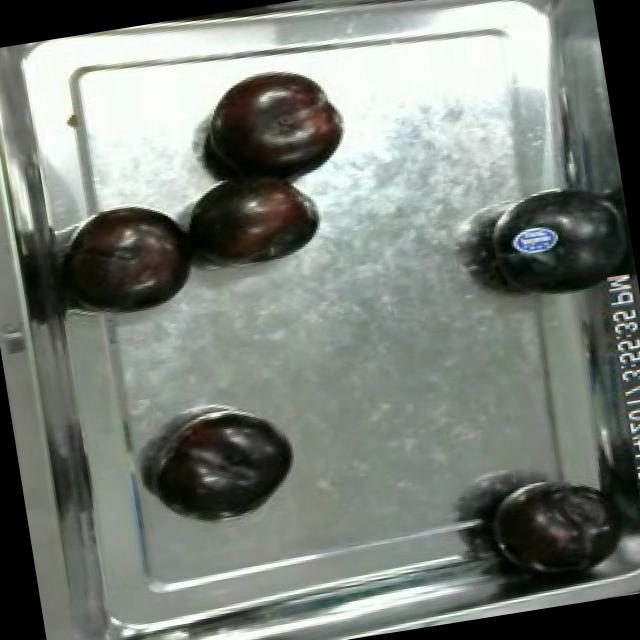Fruit: (473, 171, 640, 319), (186, 54, 357, 198), (146, 398, 306, 529), (57, 194, 205, 326), (174, 161, 330, 280), (479, 464, 627, 582)
